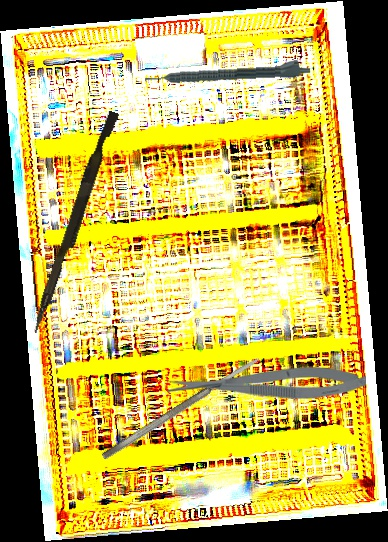Handpiece: (144, 57, 311, 86)
Micro Scissor: (167, 366, 366, 399)
Pusher: (30, 108, 120, 337)
Spatula Surgical: (100, 355, 262, 461)
